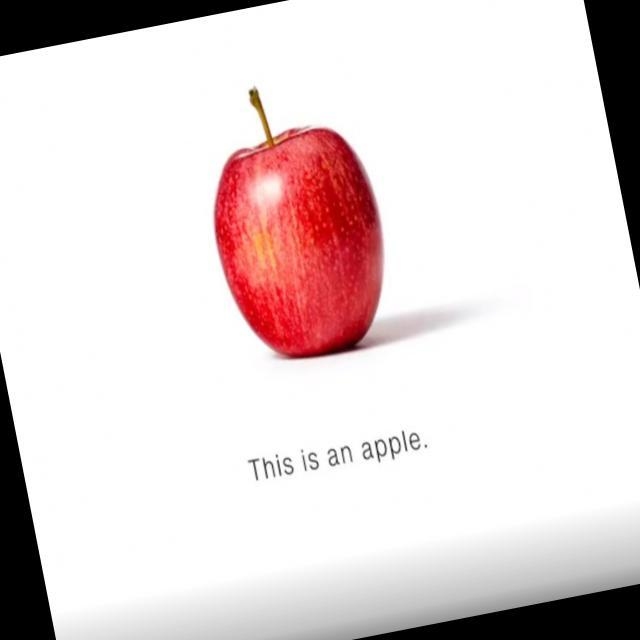ONIONS: (197, 117, 411, 369)
